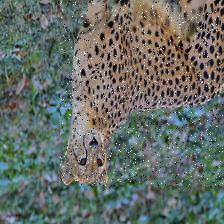Cheetha: (61, 0, 224, 185)
